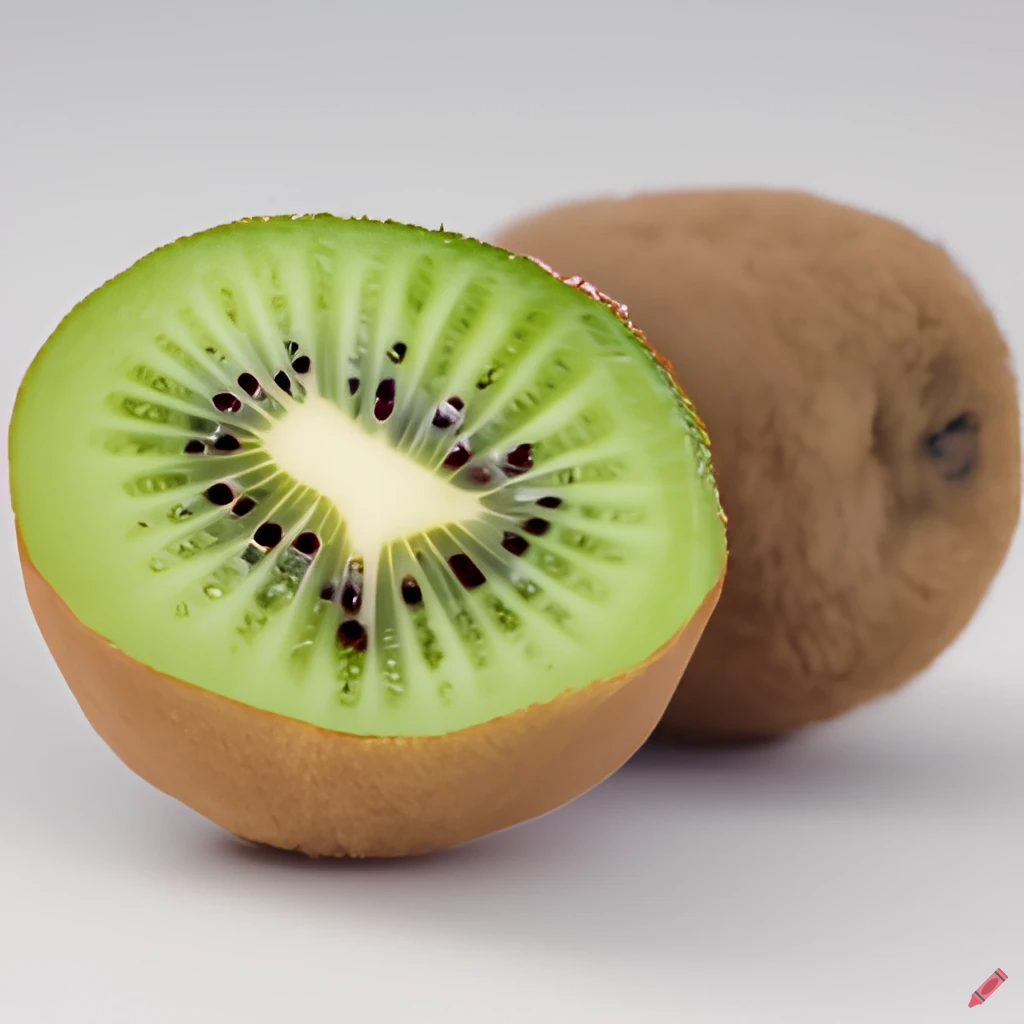Kiwi: (12, 187, 736, 868), (409, 189, 1024, 713)
